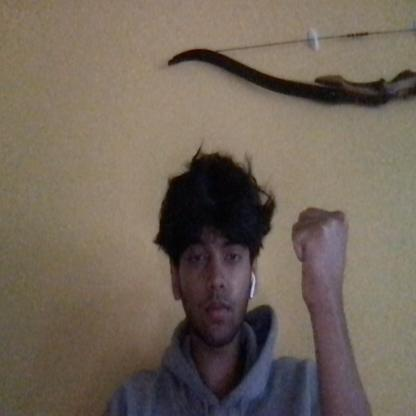fist: (282, 190, 362, 317)
